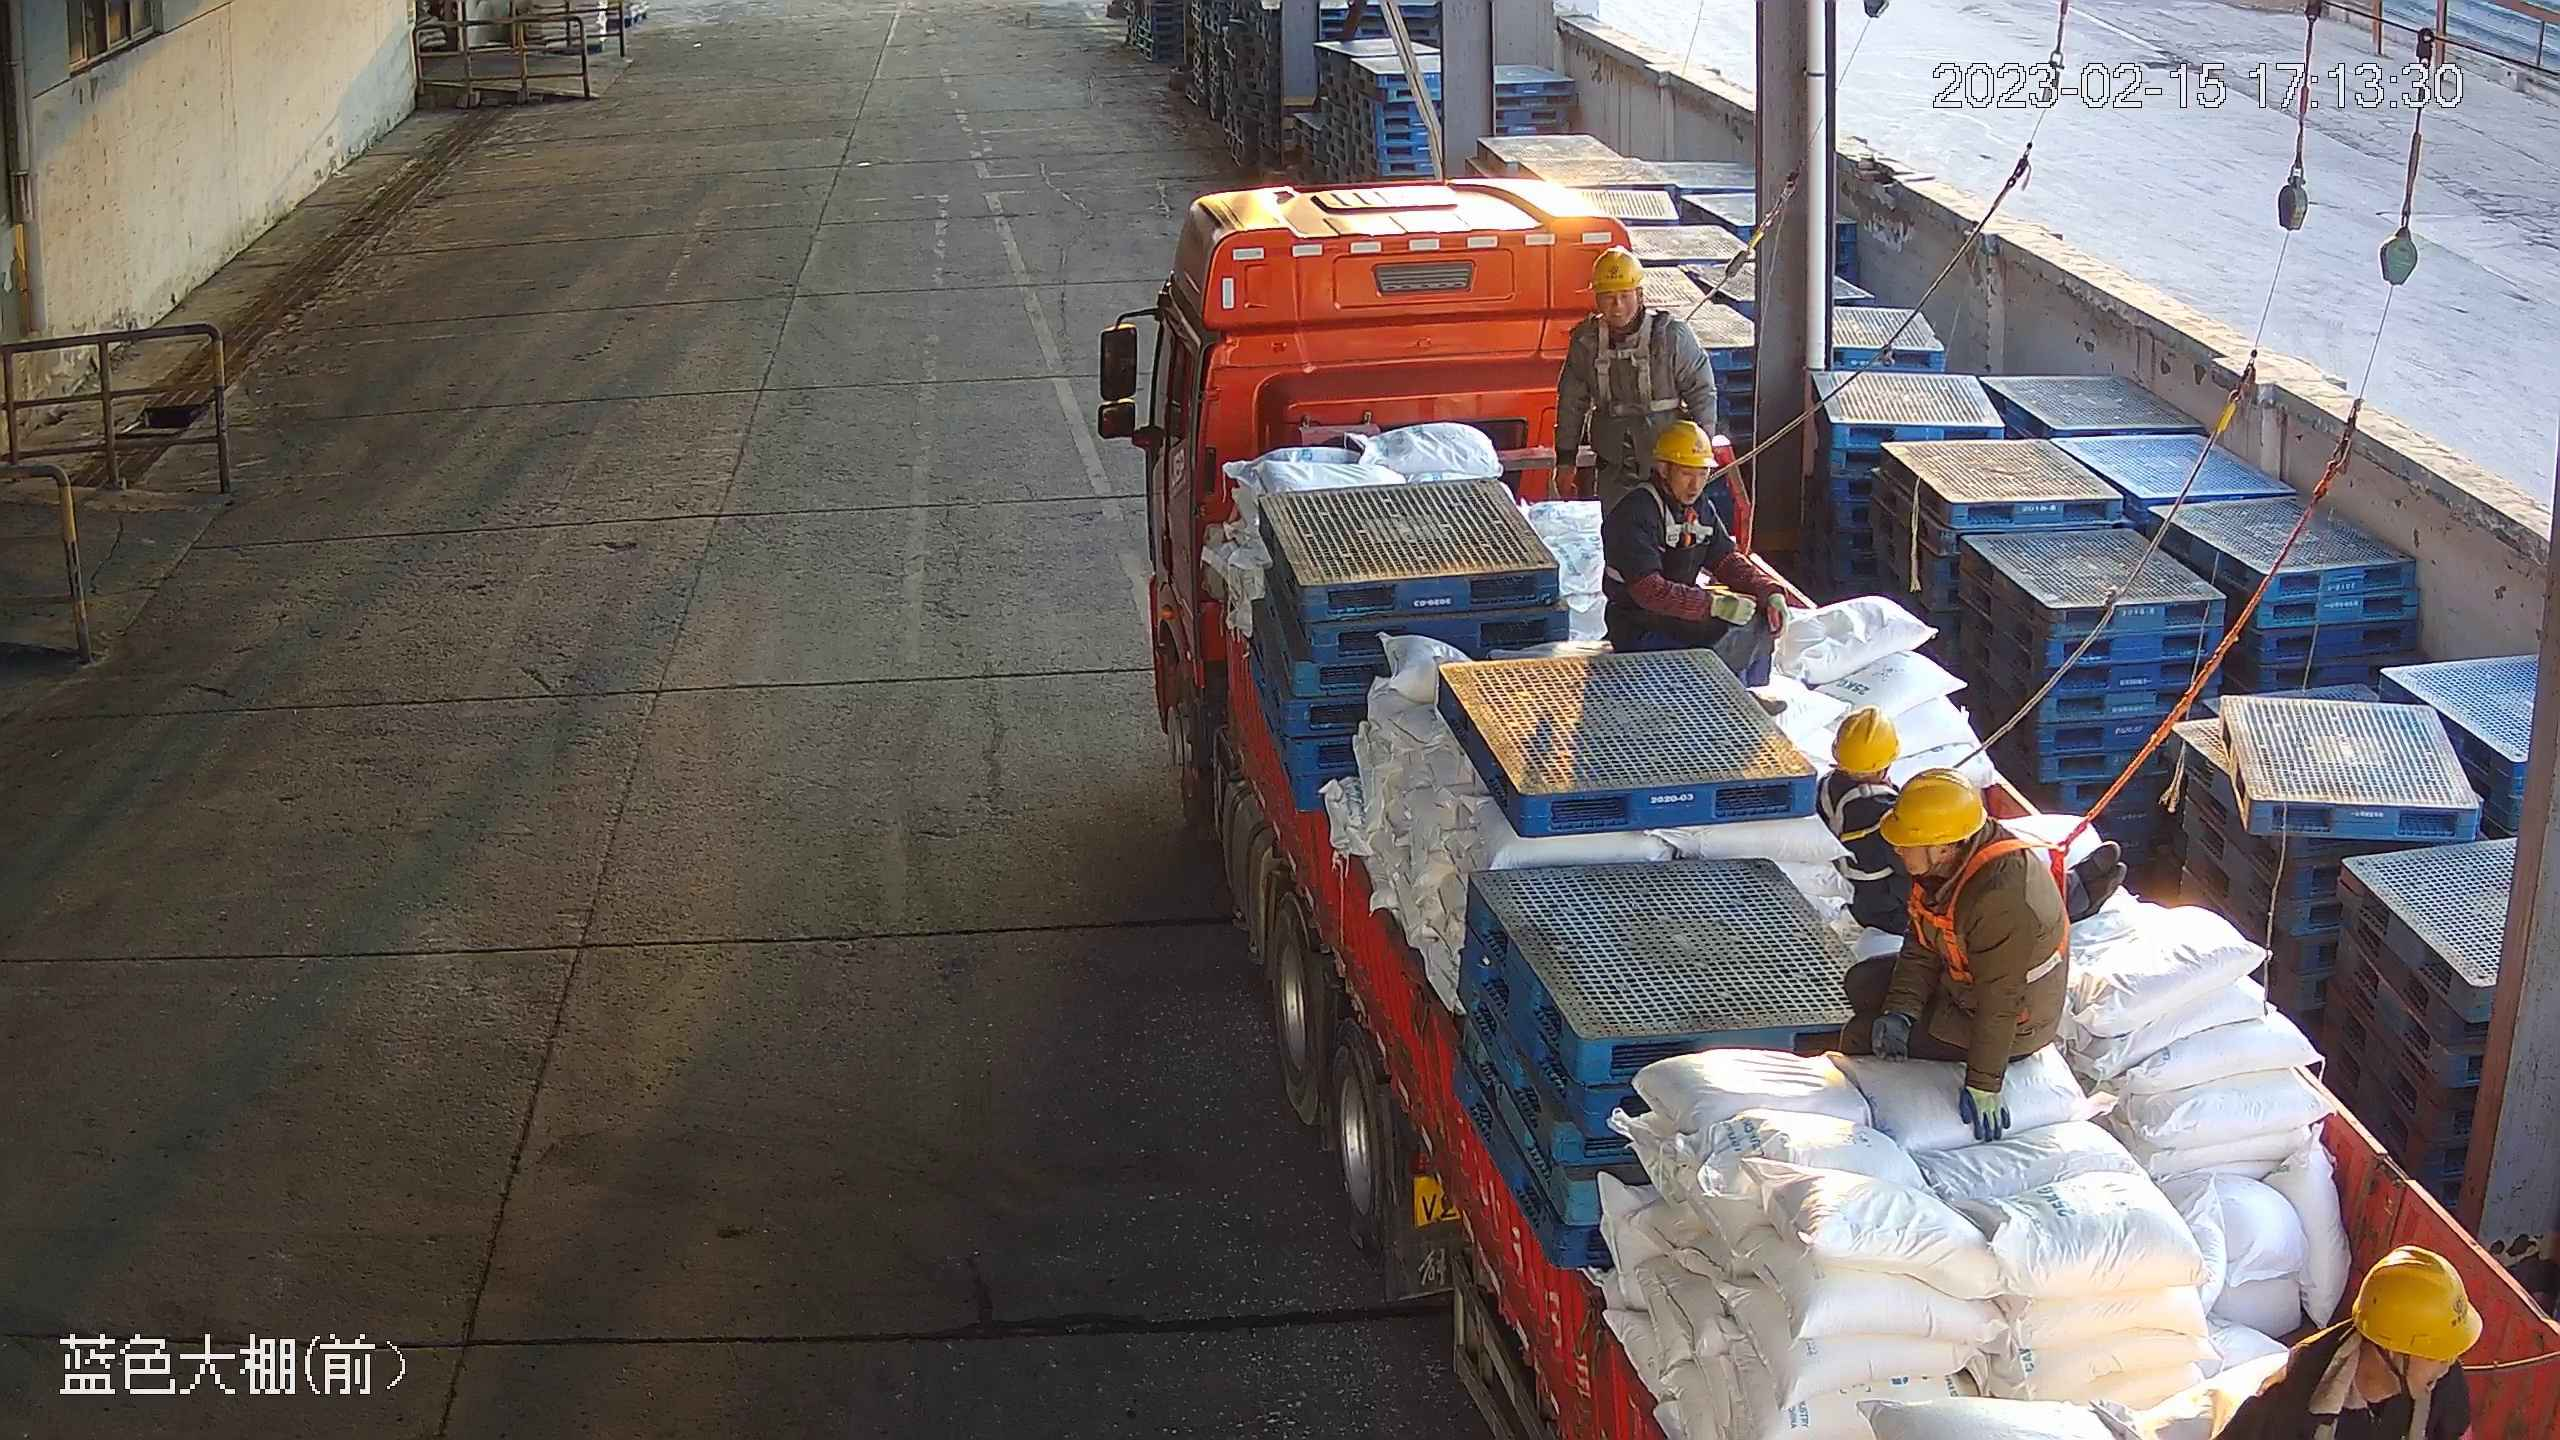belt: (1906, 819, 2085, 986), (1603, 482, 1714, 584), (1591, 308, 1682, 415), (1819, 777, 1899, 884)
head: (1877, 766, 2048, 933), (1565, 245, 1698, 368), (1601, 421, 1722, 536), (1817, 706, 1900, 834)
helmet: (2348, 1243, 2486, 1362), (1877, 769, 1989, 850), (1830, 706, 1901, 772), (1652, 419, 1720, 469), (1590, 245, 1646, 295)
people: (1836, 766, 2074, 1146), (1816, 705, 2128, 935), (1600, 420, 1790, 718), (1554, 246, 1720, 503)
truck: (1091, 176, 2560, 1440)
